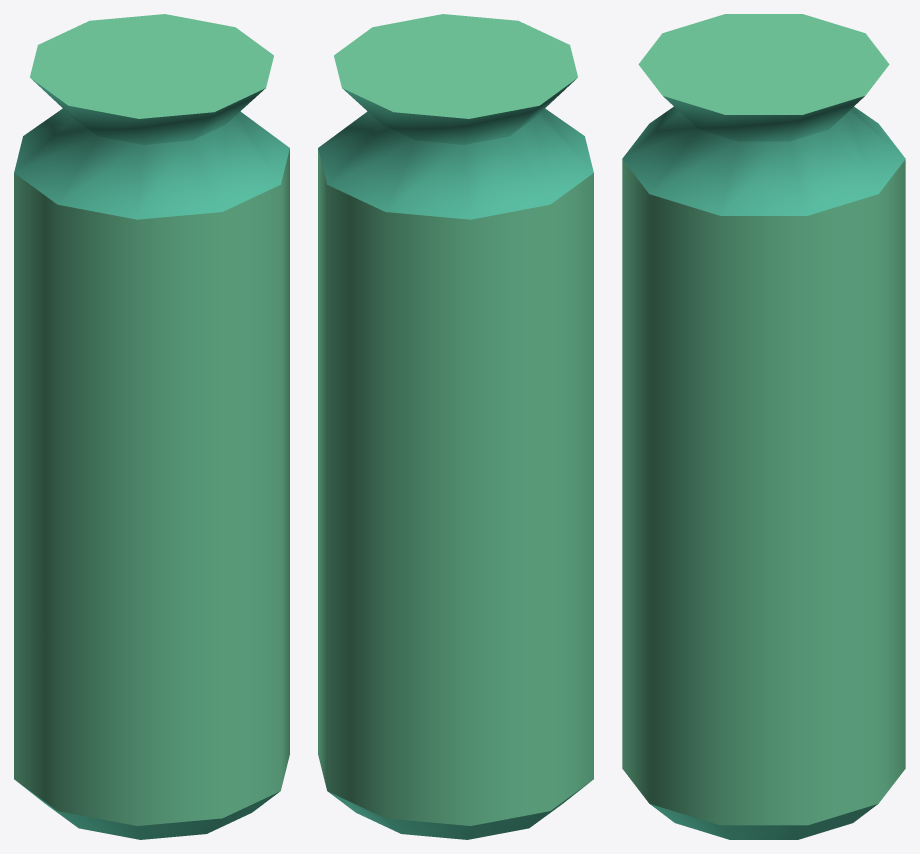
File: Bullet E.fbx
The picture shows the model from 3 angles, left to right: view 1: azimuth 30°, elevation 25°; view 2: azimuth 150°, elevation 25°; view 3: azimuth 270°, elevation 25°; orthographic projection.
Visible parts, largest first — view 1: Bullet E; view 2: Bullet E; view 3: Bullet E.
Part boxes in pixels (bbox=[...]): Bullet E: bbox=[14, 14, 289, 839]; Bullet E: bbox=[318, 14, 593, 839]; Bullet E: bbox=[622, 14, 905, 839].
Bounding box in the file's own units: 0.0549 × 0.1641 × 0.0577.
